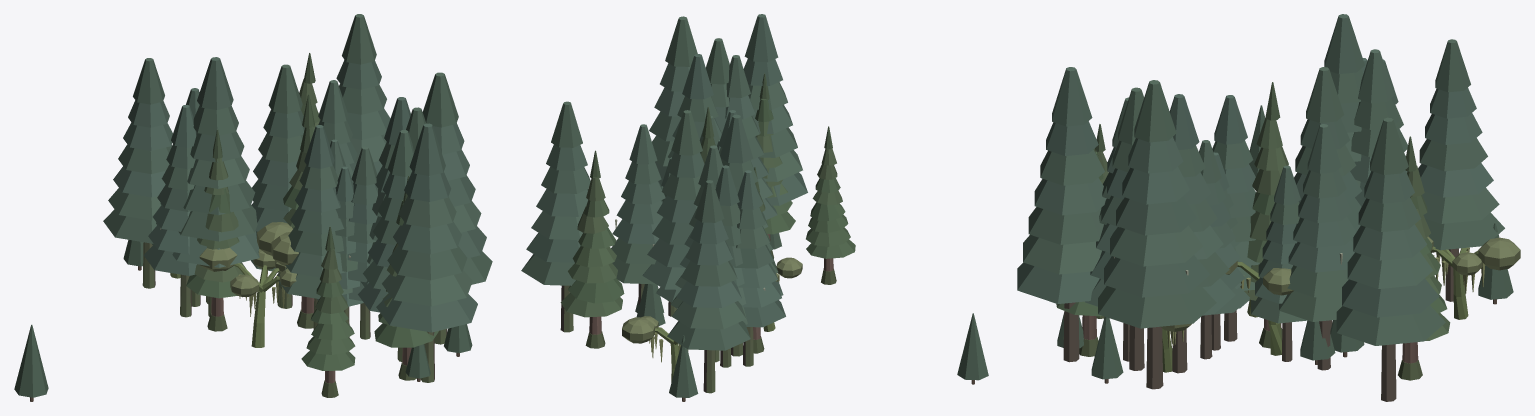
Rendered from Mist_Forest_3_2.fbx.
3 views of the same model, side by side, from view 1: azimuth 30°, elevation 25°; view 2: azimuth 150°, elevation 25°; view 3: azimuth 270°, elevation 25° (orthographic). The views are drawn at different scales.
Visible parts, largest first — view 1: Mist_Forest_3_2; view 2: Mist_Forest_3_2; view 3: Mist_Forest_3_2.
Part boxes in pixels (box(x1,y1,x2,y2)): Mist_Forest_3_2: box(14, 14, 492, 401); Mist_Forest_3_2: box(521, 14, 988, 401); Mist_Forest_3_2: box(1017, 14, 1520, 401).
Size of the model in its own units: 41.67 by 24.65 by 36.2.
